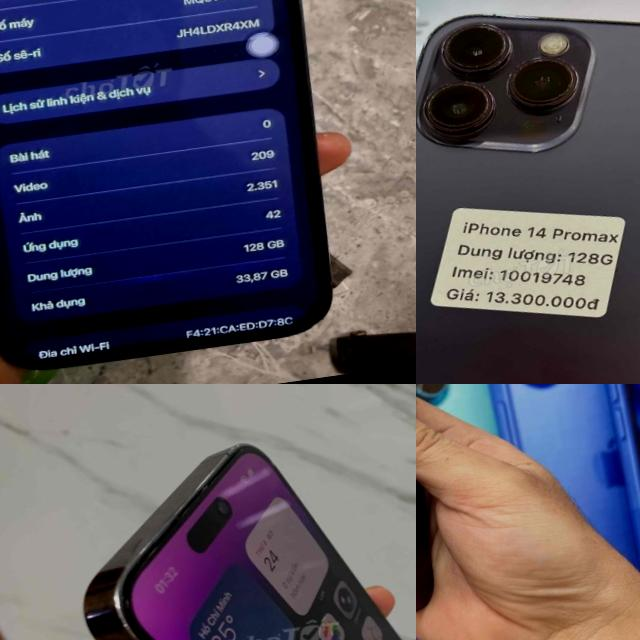gen_14: (0, 0, 355, 384), (416, 0, 640, 384), (60, 408, 416, 640), (416, 384, 481, 640)
